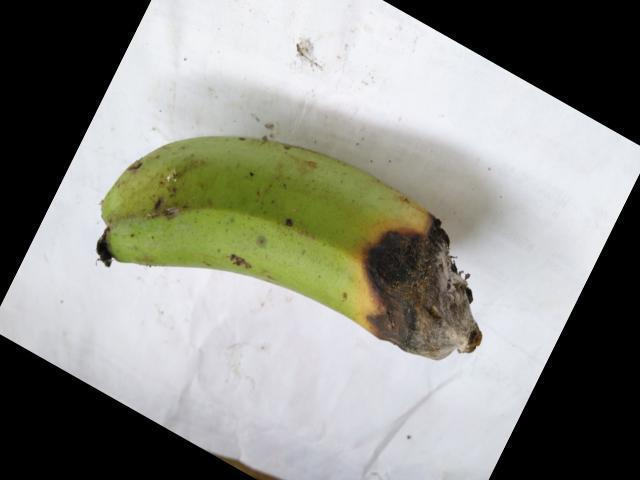rotten: (325, 189, 500, 403)
unripe: (72, 99, 369, 329)
